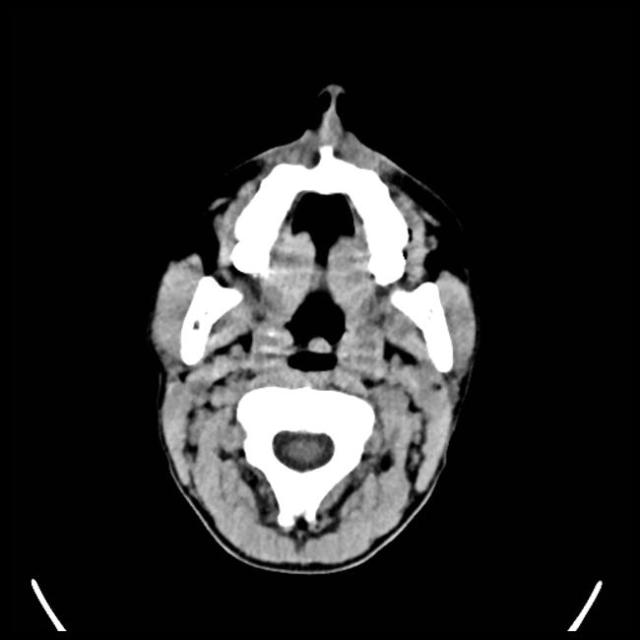lesion: (144, 81, 483, 578)
